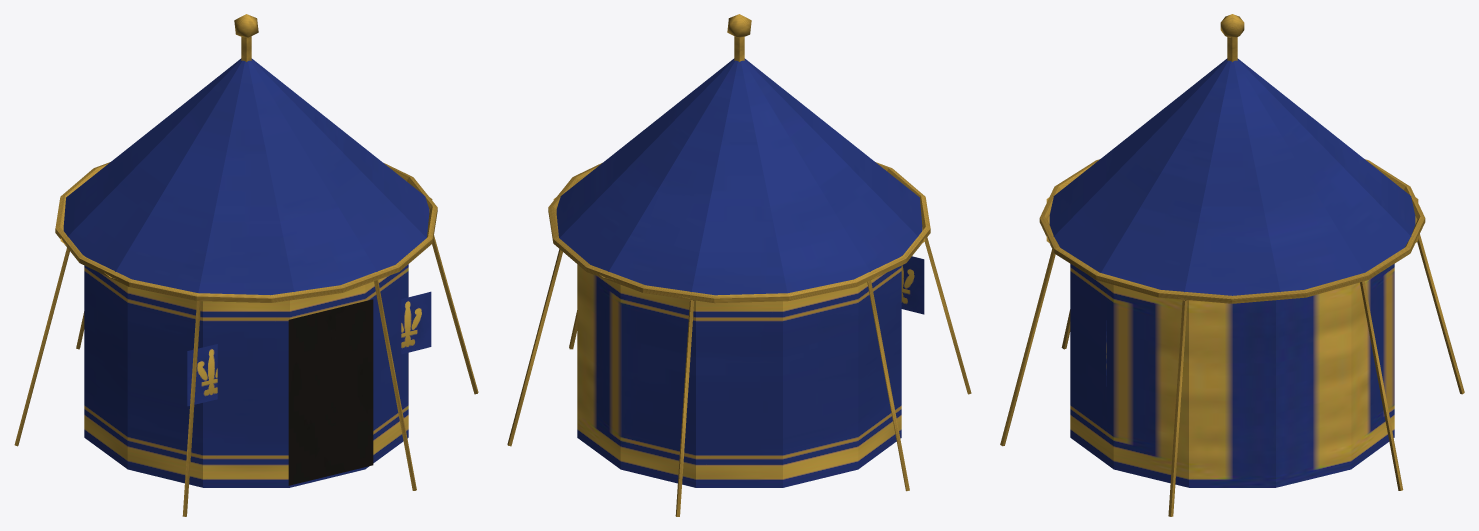
The model's file is prop_tent_blue.glb.
The picture shows the model from 3 angles, left to right: view 1: azimuth 30°, elevation 25°; view 2: azimuth 150°, elevation 25°; view 3: azimuth 270°, elevation 25°; orthographic projection.
Visible parts, largest first — view 1: prop_tent_blue; view 2: prop_tent_blue; view 3: prop_tent_blue.
Boxes of the visible parts, box(x1,y1,x2,y2) form: prop_tent_blue: box(14, 14, 478, 516); prop_tent_blue: box(507, 14, 971, 516); prop_tent_blue: box(1000, 14, 1464, 516).
Size of the model in its own units: 1.52 by 1.47 by 1.52.
1 material, 1 textured.
